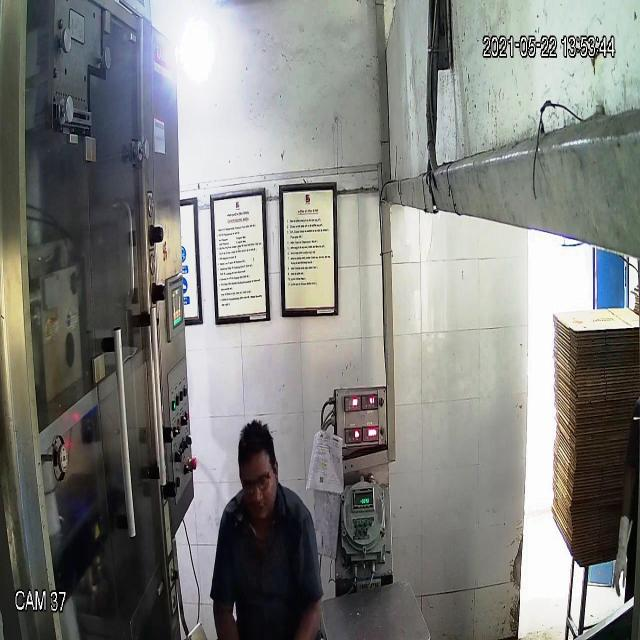glasses: (236, 462, 280, 502)
